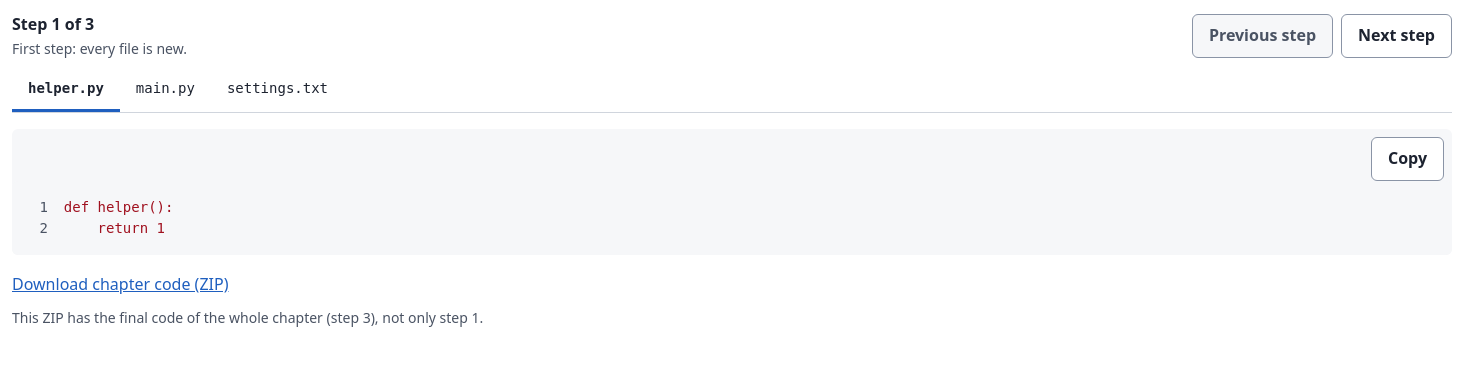
the step buttons › disables Previous on step 1 and Next on the last step
Expected: the element showing "helper.py main.py settings.txt" is shown, [12,68,1452,113]
Expected: the text "Step 1 of 3" is shown, [12,13,94,35]
Click the button "Next step": (1396, 36) [1341,14,1452,58]
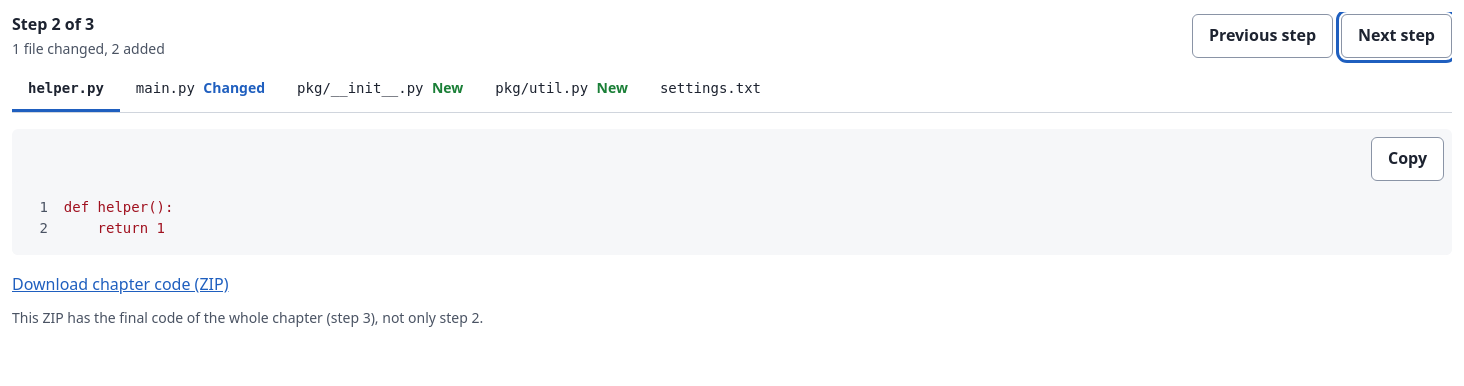
Click the button "Next step": (1396, 36) [1341,14,1452,58]
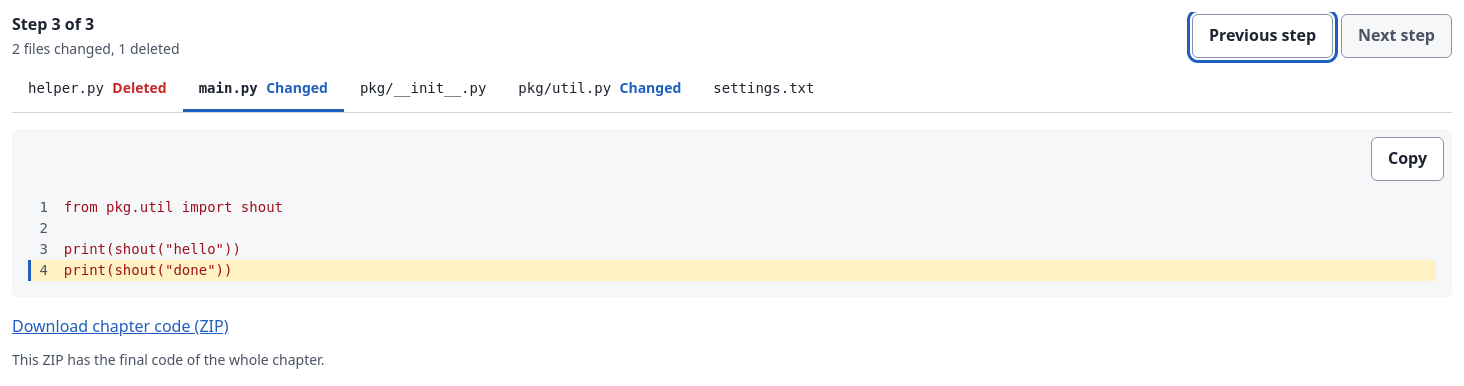
Now the button "Previous step" is enabled, box [1192,14,1333,58]
Now the text "Step 3 of 3" is shown, box [12,13,94,35]
Now the button "Next step" is disabled, box [1341,14,1452,58]
